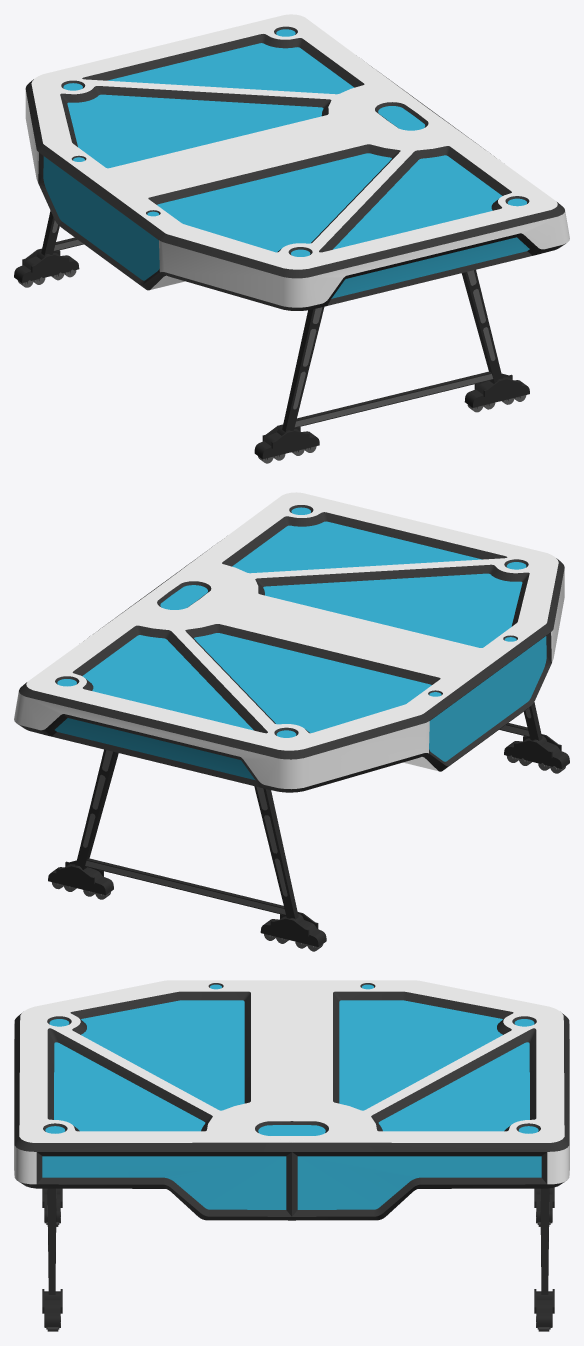
Rendered from 音乐街区KTV_顶部外壳.fbx.
3 renders of one model, top to bottom at view 1: azimuth 30°, elevation 25°; view 2: azimuth 150°, elevation 25°; view 3: azimuth 270°, elevation 25°, orthographic. The views are drawn at different scales.
Visible parts, largest first — view 1: 装饰房子外壳_本体, 装饰房子外壳_玻璃, 龙门吊机腿部; view 2: 装饰房子外壳_本体, 装饰房子外壳_玻璃, 龙门吊机腿部; view 3: 装饰房子外壳_本体, 装饰房子外壳_玻璃, 龙门吊机腿部.
Part boxes in pixels (bbox=[...]): 装饰房子外壳_本体: bbox=[25, 14, 569, 310]; 装饰房子外壳_玻璃: bbox=[43, 29, 529, 298]; 龙门吊机腿部: bbox=[14, 210, 529, 463]; 装饰房子外壳_本体: bbox=[14, 492, 564, 792]; 装饰房子外壳_玻璃: bbox=[55, 507, 546, 780]; 龙门吊机腿部: bbox=[48, 702, 569, 951]; 装饰房子外壳_本体: bbox=[14, 980, 569, 1220]; 装饰房子外壳_玻璃: bbox=[42, 984, 541, 1209]; 龙门吊机腿部: bbox=[42, 1187, 554, 1331].
Bounding box in the file's own units: 81.89 × 44.66 × 111.
